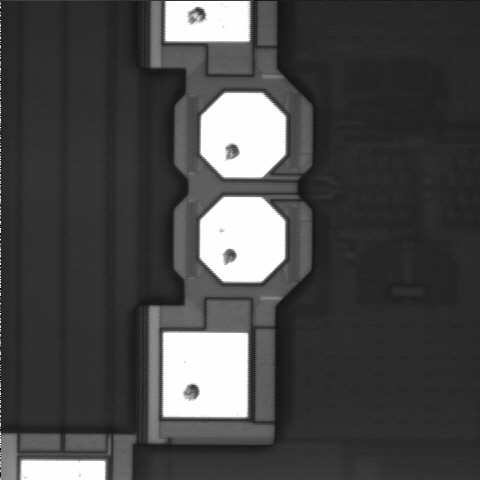pad: (201, 93, 286, 178), (200, 197, 285, 282), (163, 332, 248, 417)
